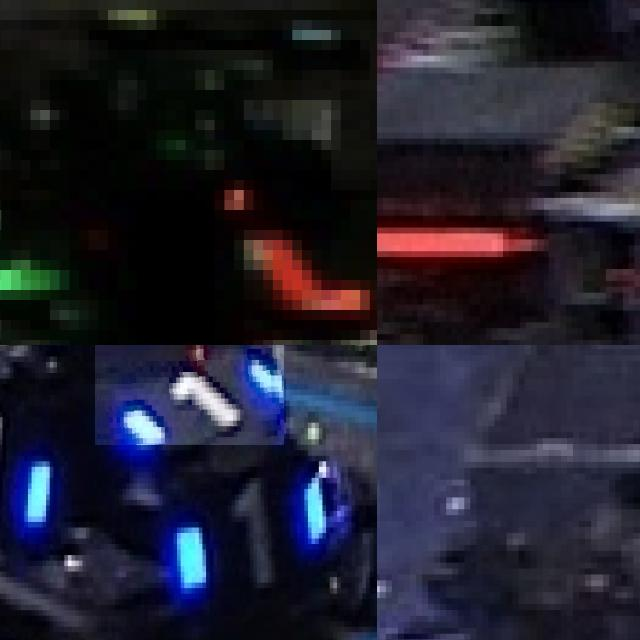B1: (164, 464, 332, 619), (95, 345, 284, 444), (0, 395, 53, 533)
